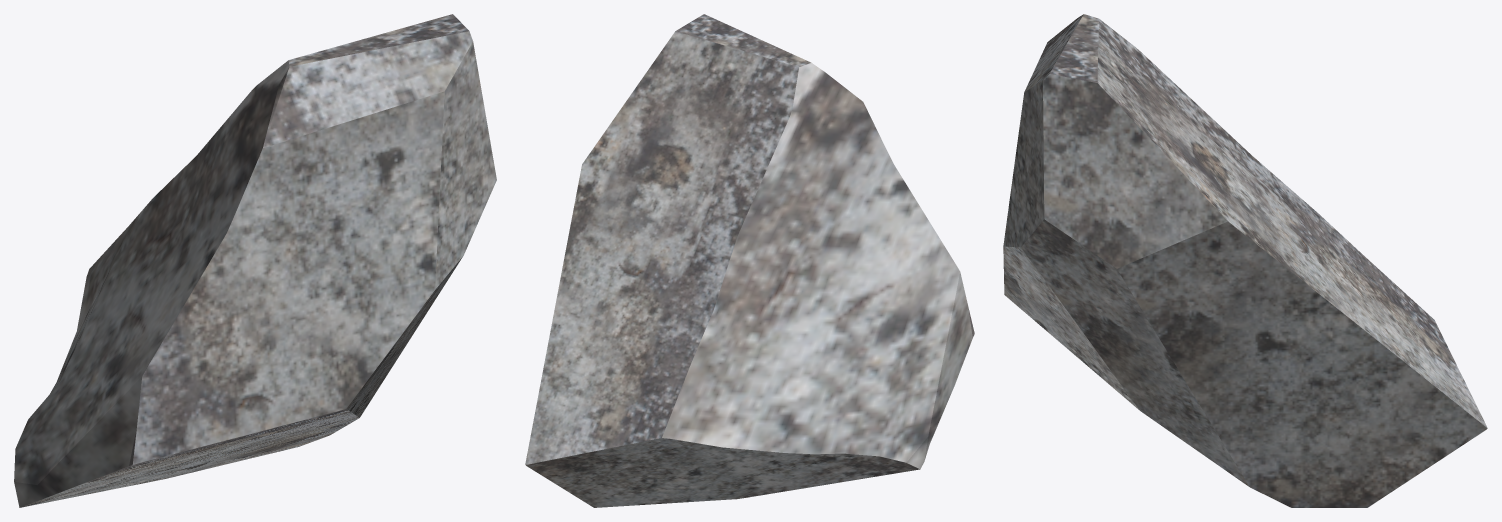
The model's file is Asteroid_Large_001_02_009_03_010.fbx.
The picture shows the model from 3 angles, left to right: view 1: azimuth 30°, elevation 25°; view 2: azimuth 150°, elevation 25°; view 3: azimuth 270°, elevation 25°; orthographic projection. The views are drawn at different scales.
Parts seen in each view (by area): view 1: Asteroid_Large_001_02_009_03_010; view 2: Asteroid_Large_001_02_009_03_010; view 3: Asteroid_Large_001_02_009_03_010.
Boxes of the visible parts, bbox=[...] form: Asteroid_Large_001_02_009_03_010: bbox=[14, 14, 496, 507]; Asteroid_Large_001_02_009_03_010: bbox=[525, 14, 974, 507]; Asteroid_Large_001_02_009_03_010: bbox=[1003, 14, 1487, 507].
Bounding box in the file's own units: 9.63 × 10.98 × 10.72.
